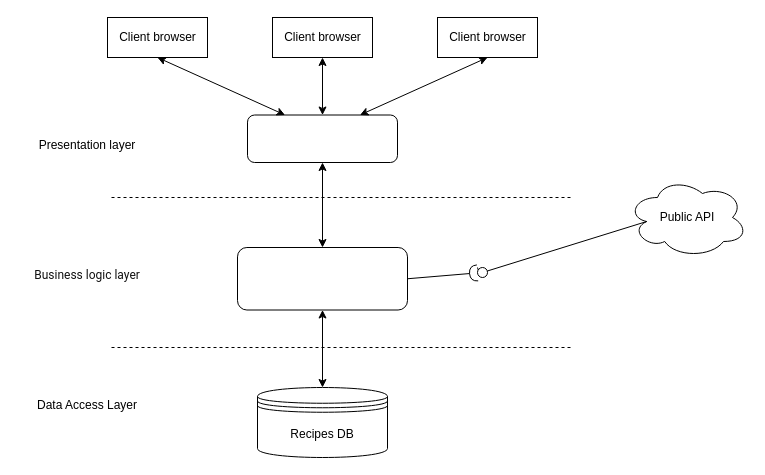
Some shapes in this 765 by 475 pixel diagram are drawn without their labels. The shapes that lost their labels are listed below. From the top down, each one's centre as x and y in pixels, then its label:
At point (322, 138): "User Interface".
At point (322, 278): "Business logic".
